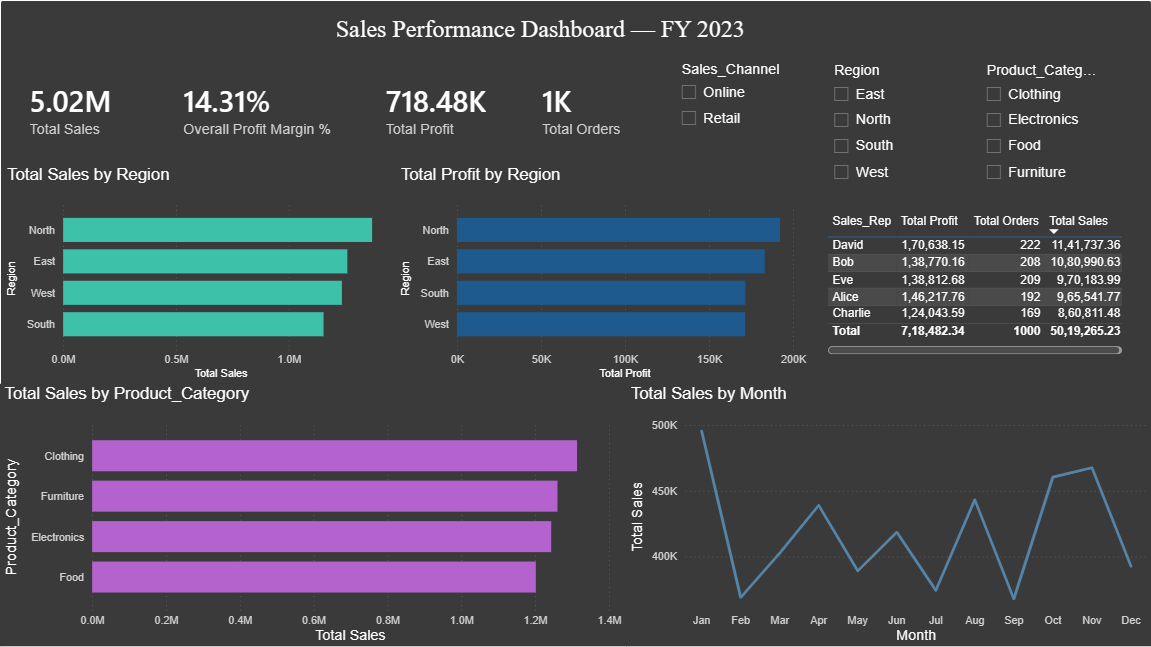

The dashboard page shown, as its layout file describes it:
{"tool":"powerbi","page":{"name":"Page 1","canvas":[1280,720],"ordinal":0},"visuals":[{"type":"cardVisual","fields":{"Data":["Sales Data.Total Sales"]},"box":[2.8,63.9,170.8,112.5],"z":0},{"type":"cardVisual","fields":{"Data":["Sales Data.Total Profit"]},"box":[398.6,63.9,173.6,113.9],"z":1},{"type":"cardVisual","fields":{"Data":["Sales Data.Overall Profit Margin %"]},"box":[173.6,63.9,225,112.5],"z":2},{"type":"cardVisual","fields":{"Data":["Sales Data.Total Orders"]},"box":[572.2,63.9,147.2,113.9],"z":3},{"type":"clusteredBarChart","fields":{"Category":["Sales Data.Region"],"Y":["Sales Data.Total Sales"]},"box":[2.8,183.3,437.5,243.1],"z":4},{"type":"clusteredBarChart","fields":{"Category":["Sales Data.Region"],"Y":["Sales Data.Total Profit"]},"box":[440.3,183.3,461.1,243.1],"z":5},{"type":"clusteredBarChart","fields":{"Category":["Sales Data.Product_Category"],"Y":["Sales Data.Total Sales"]},"box":[0,426.4,695.8,293.1],"z":6},{"type":"lineChart","fields":{"Y":["Sales Data.Total Sales"],"Category":["Sales Data.Month"]},"box":[695.8,426.4,583.3,293.1],"z":7},{"type":"tableEx","fields":{"Values":["Sales Data.Sales_Rep","Sales Data.Total Profit","Sales Data.Total Orders","Sales Data.Total Sales"]},"box":[913.9,231.9,337.5,166.7],"z":8},{"type":"slicer","fields":{"Values":["Sales Data.Region"]},"box":[913.9,63.9,157,168],"z":9},{"type":"slicer","fields":{"Values":["Sales Data.Product_Category"]},"box":[1083.3,63.9,156.9,148.6],"z":10},{"type":"slicer","fields":{"Values":["Sales Data.Sales_Channel"]},"box":[744.4,62.5,157,168],"z":11},{"type":"textbox","box":[368.1,12.5,691.7,51.4],"z":12}]}

Visuals, with their boxes in screenshot pixels (x1, y1, x2, y2), scaled from the page's 1280x720 canvas onto the 1151x647 screenshot:
cardVisual - Sales Data.Total Sales: box=[3, 57, 156, 159]
cardVisual - Sales Data.Total Profit: box=[358, 57, 515, 160]
cardVisual - Sales Data.Overall Profit Margin %: box=[156, 57, 358, 159]
cardVisual - Sales Data.Total Orders: box=[515, 57, 647, 160]
clusteredBarChart - Sales Data.Region x Sales Data.Total Sales: box=[3, 165, 396, 383]
clusteredBarChart - Sales Data.Region x Sales Data.Total Profit: box=[396, 165, 811, 383]
clusteredBarChart - Sales Data.Product_Category x Sales Data.Total Sales: box=[0, 383, 626, 646]
lineChart - Sales Data.Total Sales x Sales Data.Month: box=[626, 383, 1150, 646]
tableEx - Sales Data.Sales_Rep x Sales Data.Total Profit: box=[822, 208, 1125, 358]
slicer - Sales Data.Region: box=[822, 57, 963, 208]
slicer - Sales Data.Product_Category: box=[974, 57, 1115, 191]
slicer - Sales Data.Sales_Channel: box=[669, 56, 811, 207]
textbox: box=[331, 11, 953, 57]
